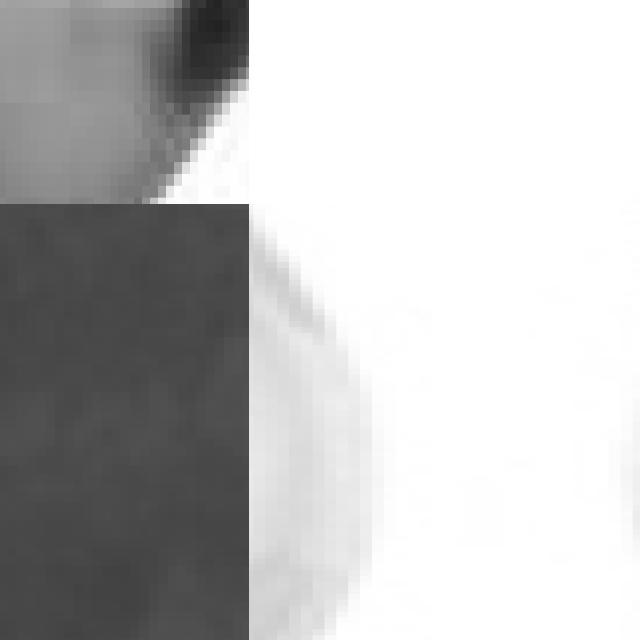forks: (251, 0, 640, 204)
spoons: (0, 0, 249, 204)
